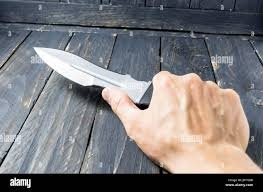knife: (31, 46, 155, 105)
